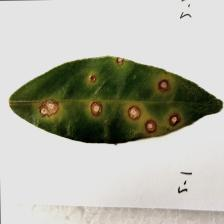canker: (29, 65, 182, 137)
